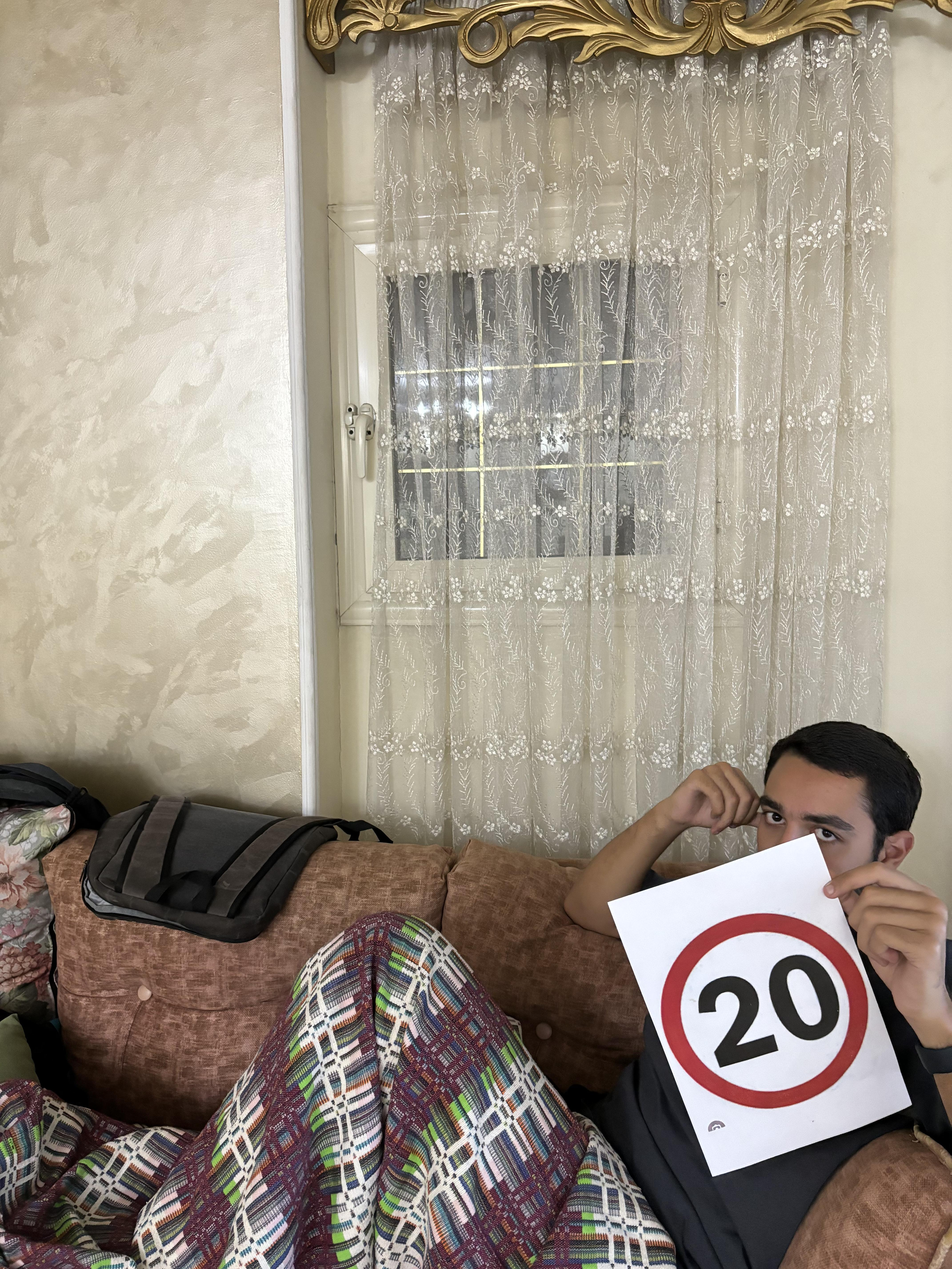20-Speed: (649, 911, 879, 1112)
